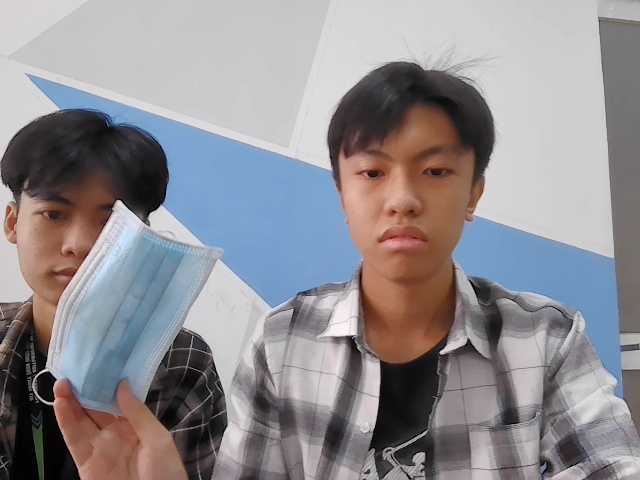human: (325, 65, 487, 277), (12, 106, 169, 315)
mask: (45, 201, 216, 408)
